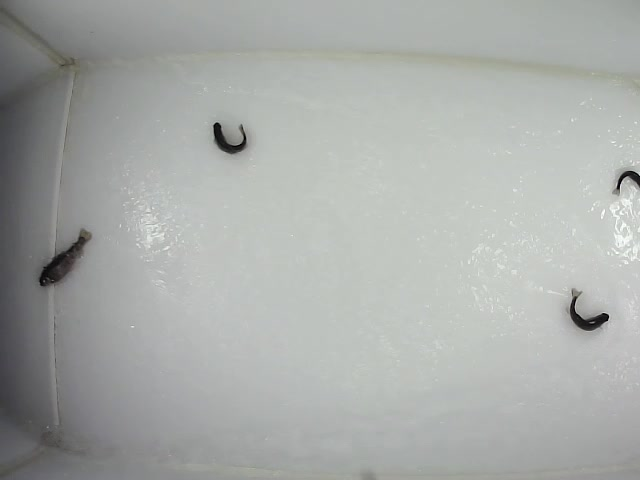fish: (38, 227, 95, 289), (567, 285, 611, 334), (208, 122, 248, 155)
